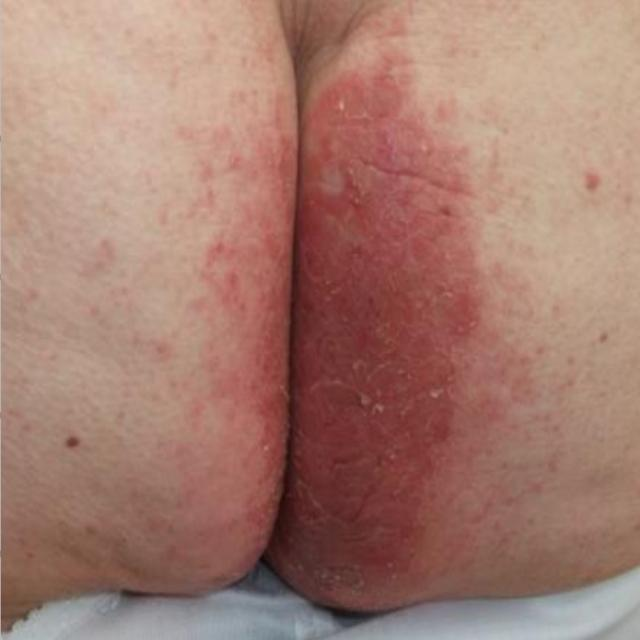stage-1: (225, 58, 484, 608)
